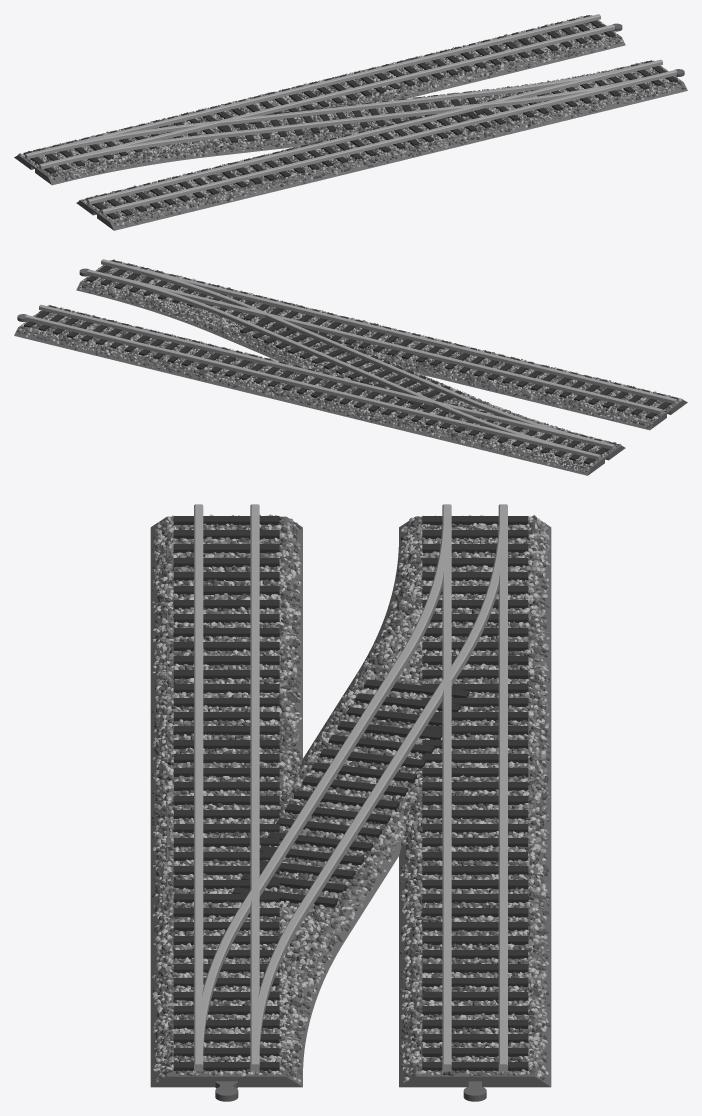
Rendered from Rail_Crossover_Right_075.obj.
The picture shows the model from 3 angles, top to bottom: view 1: azimuth 30°, elevation 25°; view 2: azimuth 150°, elevation 25°; view 3: azimuth 270°, elevation 25°; orthographic projection. The views are drawn at different scales.
Visible parts, largest first — view 1: Rail_Crossover_Right_075; view 2: Rail_Crossover_Right_075; view 3: Rail_Crossover_Right_075.
Boxes of the visible parts, bbox=[...] form: Rail_Crossover_Right_075: bbox=[14, 14, 687, 230]; Rail_Crossover_Right_075: bbox=[14, 259, 687, 475]; Rail_Crossover_Right_075: bbox=[150, 504, 551, 1101].
Bounding box in the file's own units: 4.1 × 0.0822 × 1.21.
1 material, 1 textured.
